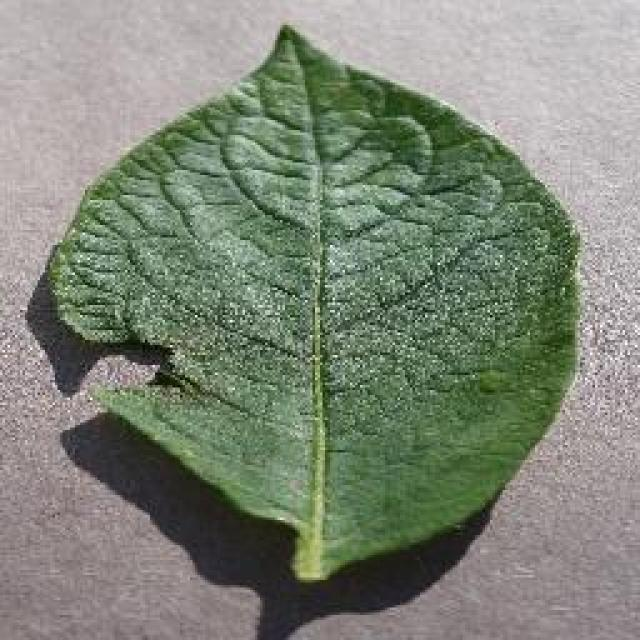healthy: (42, 20, 588, 588)
